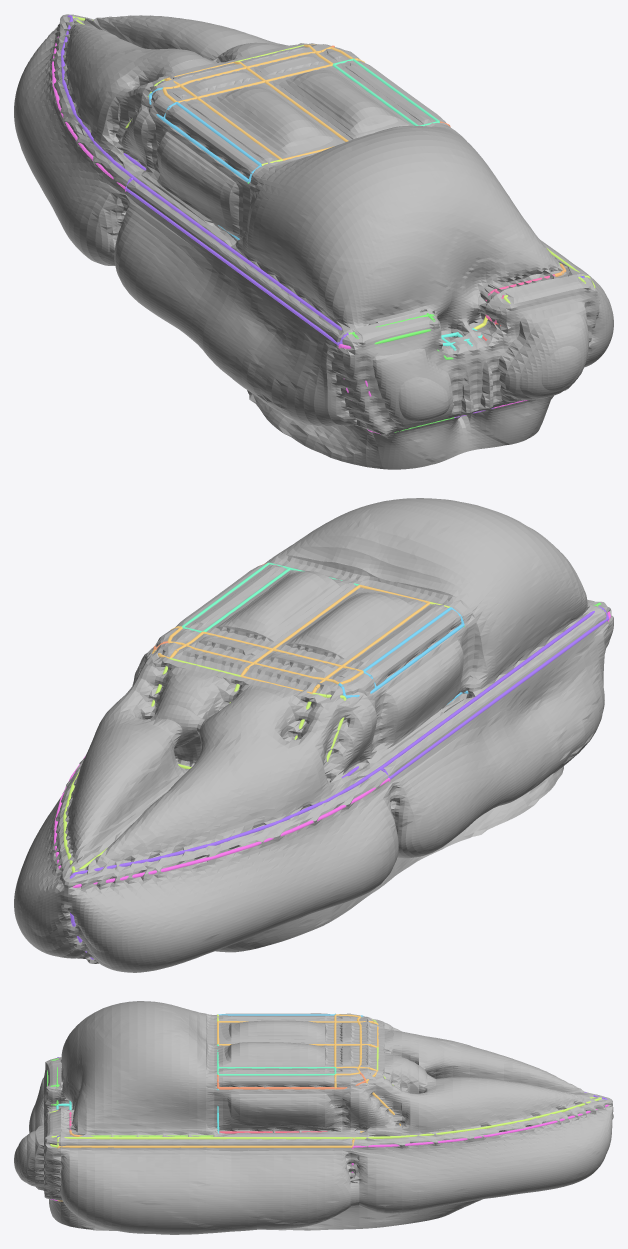
Rendered from flowrep_boat.gltf.
The picture shows the model from 3 angles, top to bottom: view 1: azimuth 30°, elevation 25°; view 2: azimuth 150°, elevation 25°; view 3: azimuth 270°, elevation 25°; orthographic projection. The views are drawn at different scales.
Bounding box in the file's own units: 0.438 × 0.3271 × 0.9801.
